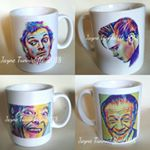cups: (77, 2, 147, 75), (4, 81, 73, 149), (76, 78, 145, 145), (8, 5, 73, 73)
